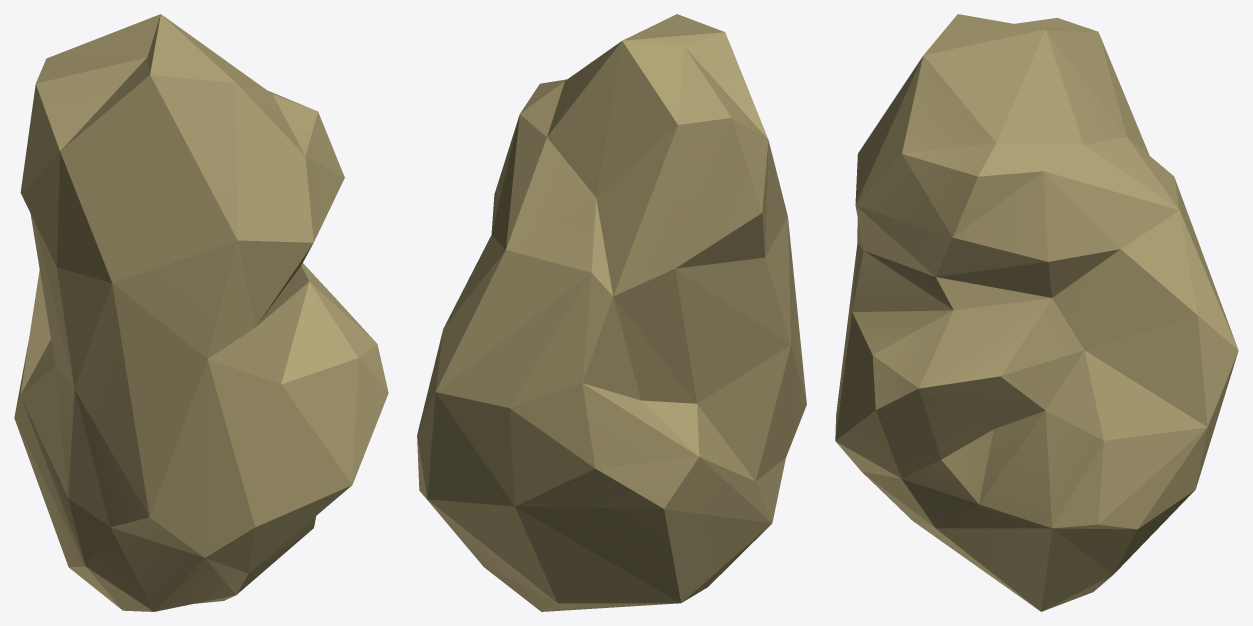
The model's file is SM_small_rock_41.fbx.
3 views of the same model, side by side, from view 1: azimuth 30°, elevation 25°; view 2: azimuth 150°, elevation 25°; view 3: azimuth 270°, elevation 25° (orthographic). The views are drawn at different scales.
Visible parts, largest first — view 1: small_rock_41; view 2: small_rock_41; view 3: small_rock_41.
Boxes of the visible parts, box(x1,y1,x2,y2) form: small_rock_41: box(14, 14, 388, 611); small_rock_41: box(417, 14, 806, 611); small_rock_41: box(835, 14, 1238, 611).
Bounding box in the file's own units: 82.58 × 151 × 99.28.
